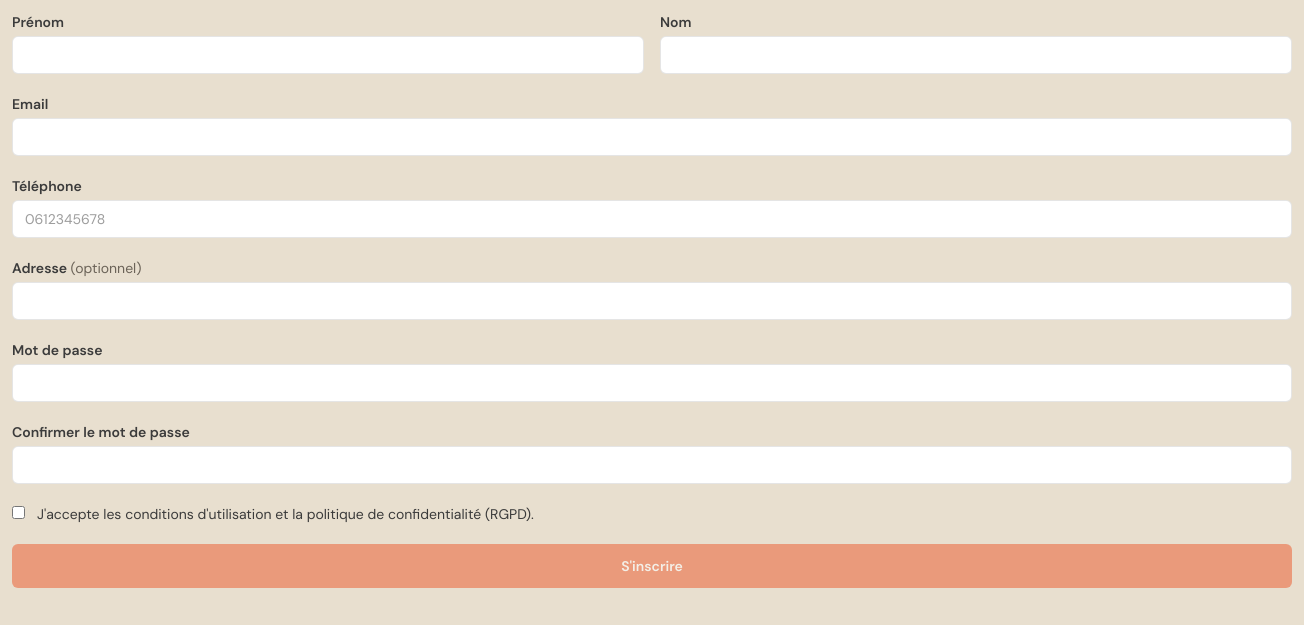
Test case: RegisterForm › affiche une erreur si les mots de passe ne correspondent pas
In the password field labelled "Mot de passe": (652, 383) [12,364,1292,402], type "Secure1234!"
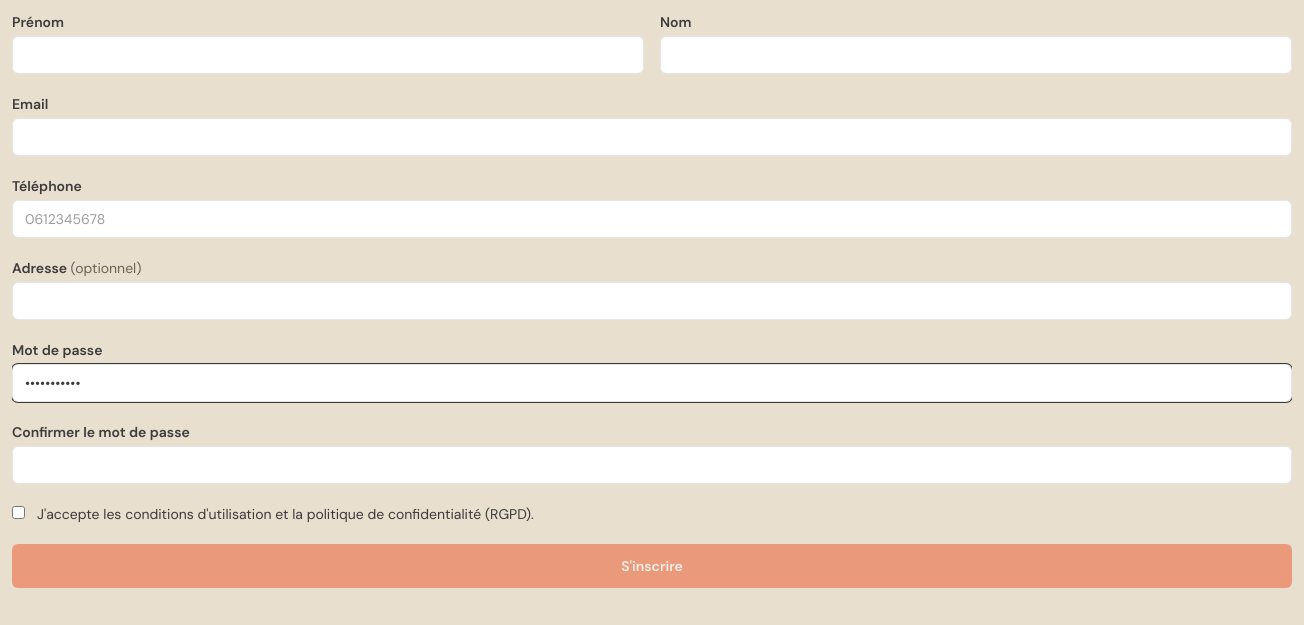
In the password field labelled "Confirmer le mot de passe": (652, 465) [12,446,1292,484], type "Autre1234!"
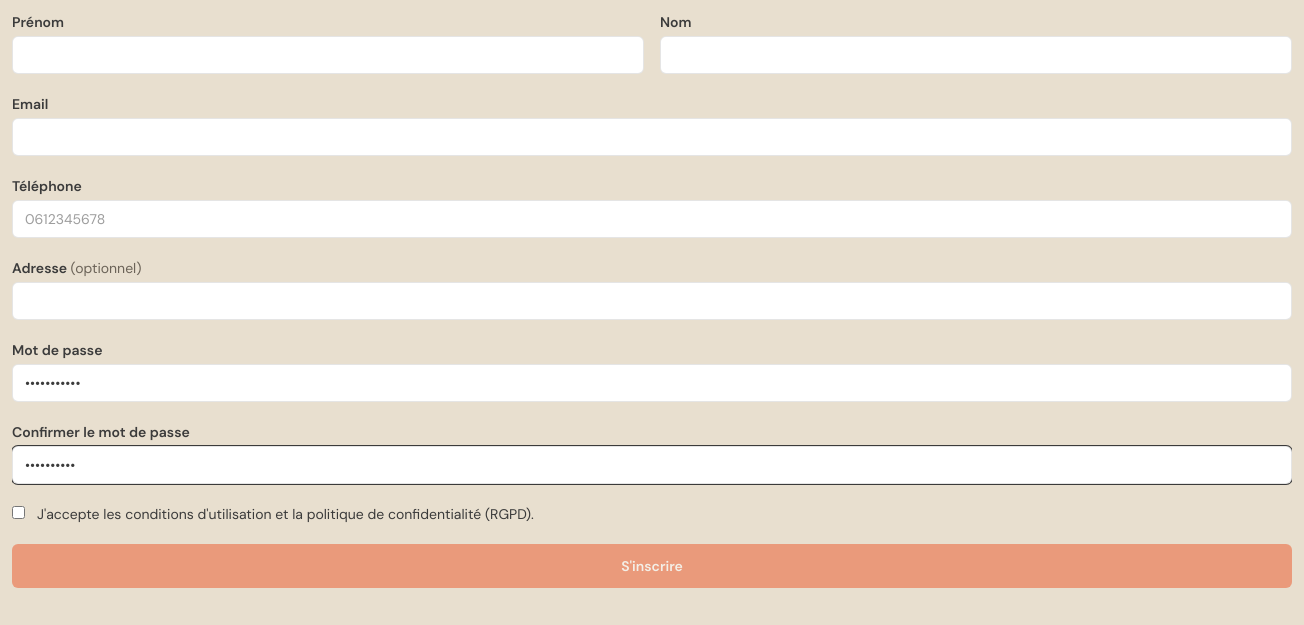
Press Tab
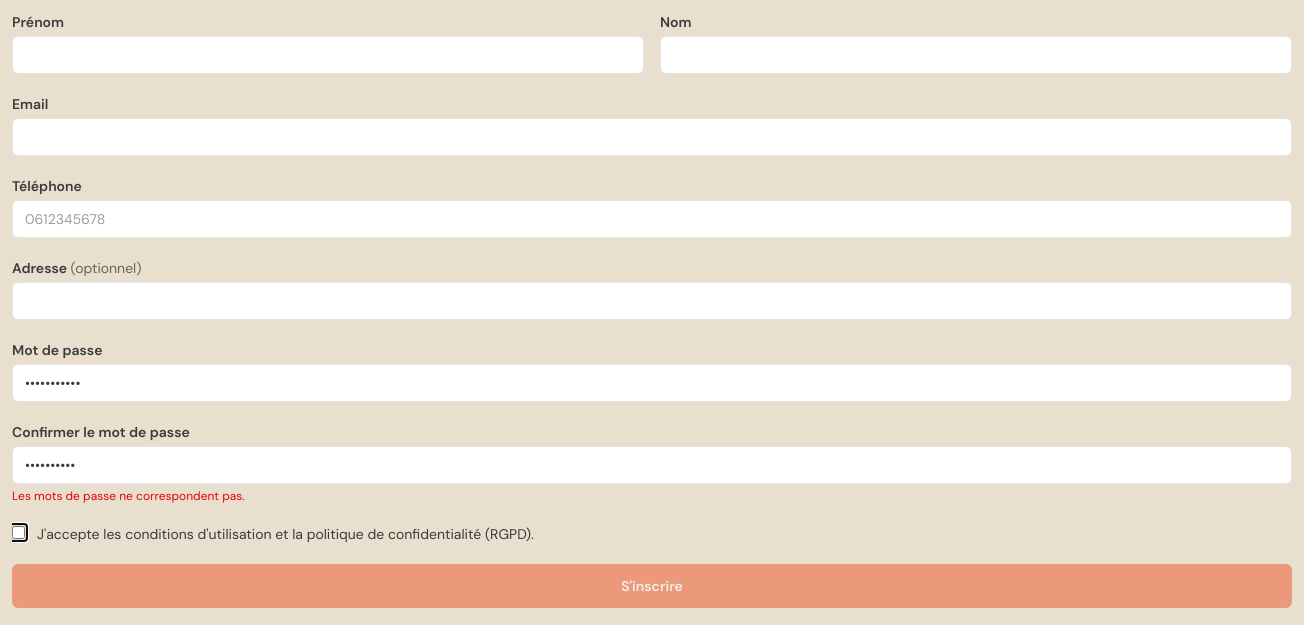
Check: the text "Les mots de passe ne correspondent pas." is shown, box [12,488,245,504]
